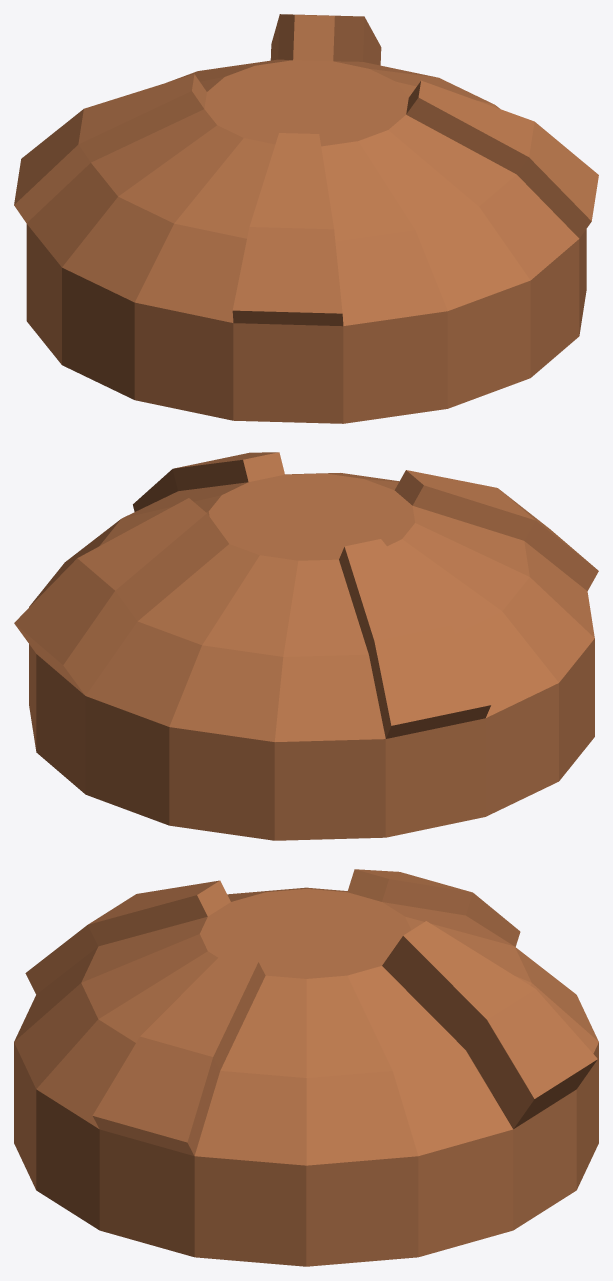
File: tape_player_probes.fbx
3 views of the same model, one above another, from view 1: azimuth 30°, elevation 25°; view 2: azimuth 150°, elevation 25°; view 3: azimuth 270°, elevation 25° (orthographic). The views are drawn at different scales.
Visible parts, largest first — view 1: Cylinder; view 2: Cylinder; view 3: Cylinder.
Part boxes in pixels (<box>): Cylinder: <box>14,14,598,423</box>; Cylinder: <box>14,452,598,840</box>; Cylinder: <box>14,869,598,1266</box>.
Size of the model in its own units: 86.79 by 40.19 by 86.79.
